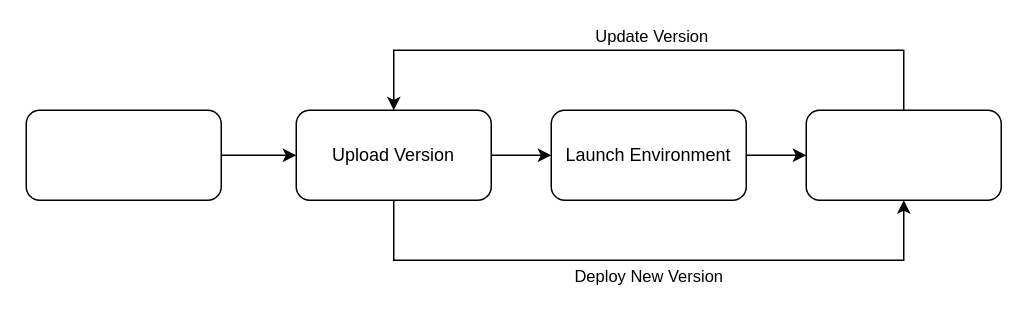
Some shapes in this 1028 by 311 pixel diagram are drawn without their labels. The shapes that lost their labels are listed below. From the top down, each one's box as (x1, y1, x2, y2) in pixels, then its label:
(25, 109, 221, 200): Create Application
(805, 109, 1001, 200): Manage Environment
